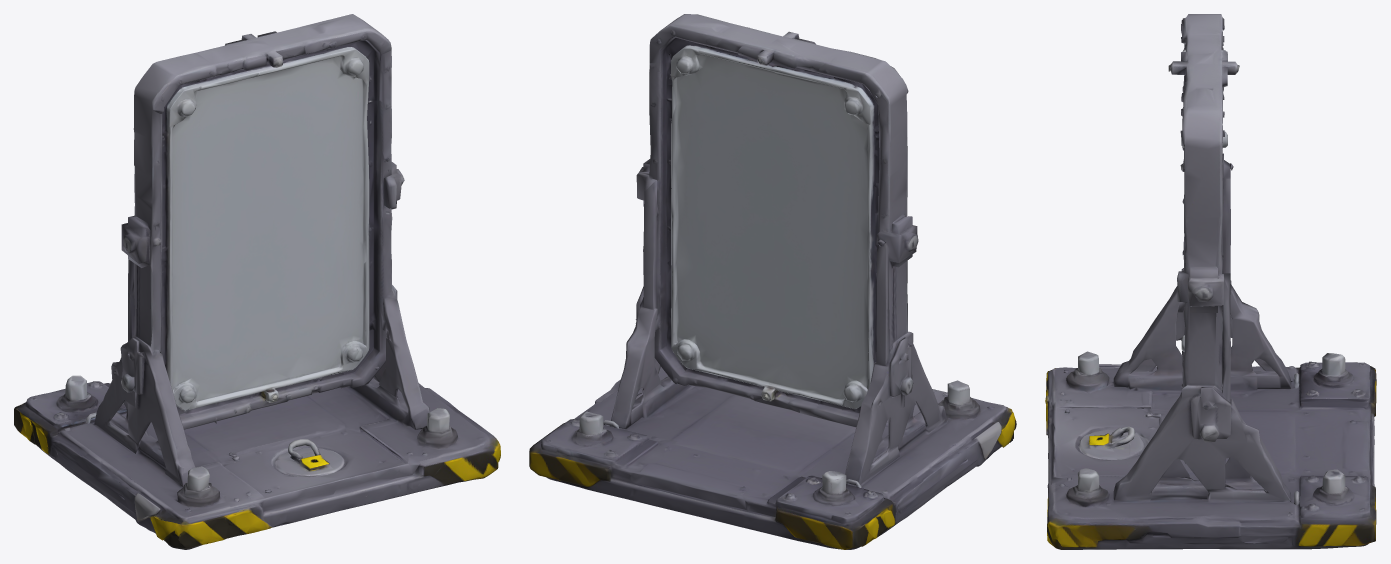
Rendered from tripo_convert_8c0d6650-cbfd-4823-8fa8-6b6011e63541.fbx.
3 renders of one model, left to right at view 1: azimuth 30°, elevation 25°; view 2: azimuth 150°, elevation 25°; view 3: azimuth 270°, elevation 25°, orthographic.
Visible parts, largest first — view 1: tripo_node_8c0d6650; view 2: tripo_node_8c0d6650; view 3: tripo_node_8c0d6650.
Boxes of the visible parts, <box> form: tripo_node_8c0d6650: <box>14,14,500,549</box>; tripo_node_8c0d6650: <box>529,14,1016,549</box>; tripo_node_8c0d6650: <box>1045,14,1376,549</box>.
Bounding box in the file's own units: 0.8232 × 0.9798 × 0.7105.
Materials: 1 (1 with a texture image).
